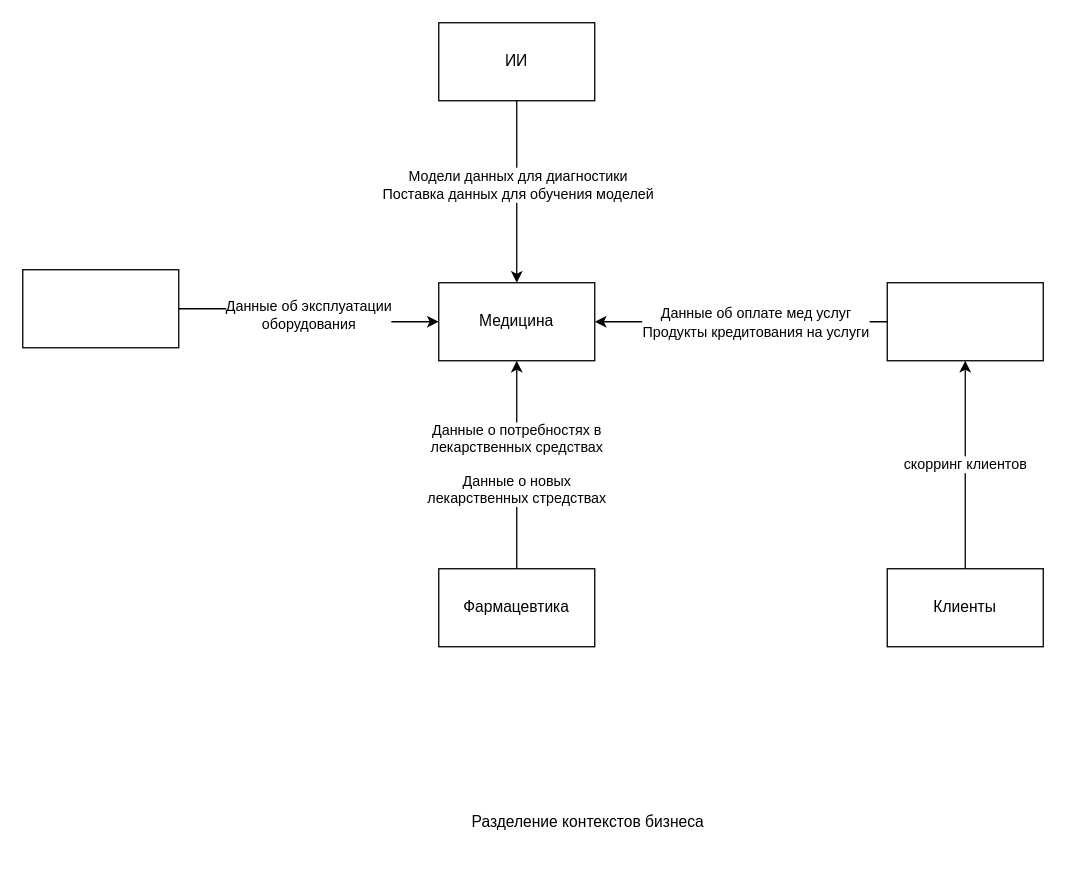
This 1066x877 diagram has some shape labels left out. The shapes that lost their labels are listed below. From the top down, each one's centre as x and y in pixels, then its label:
point (100, 308): Медицинское оборудование
point (964, 321): Финансы
